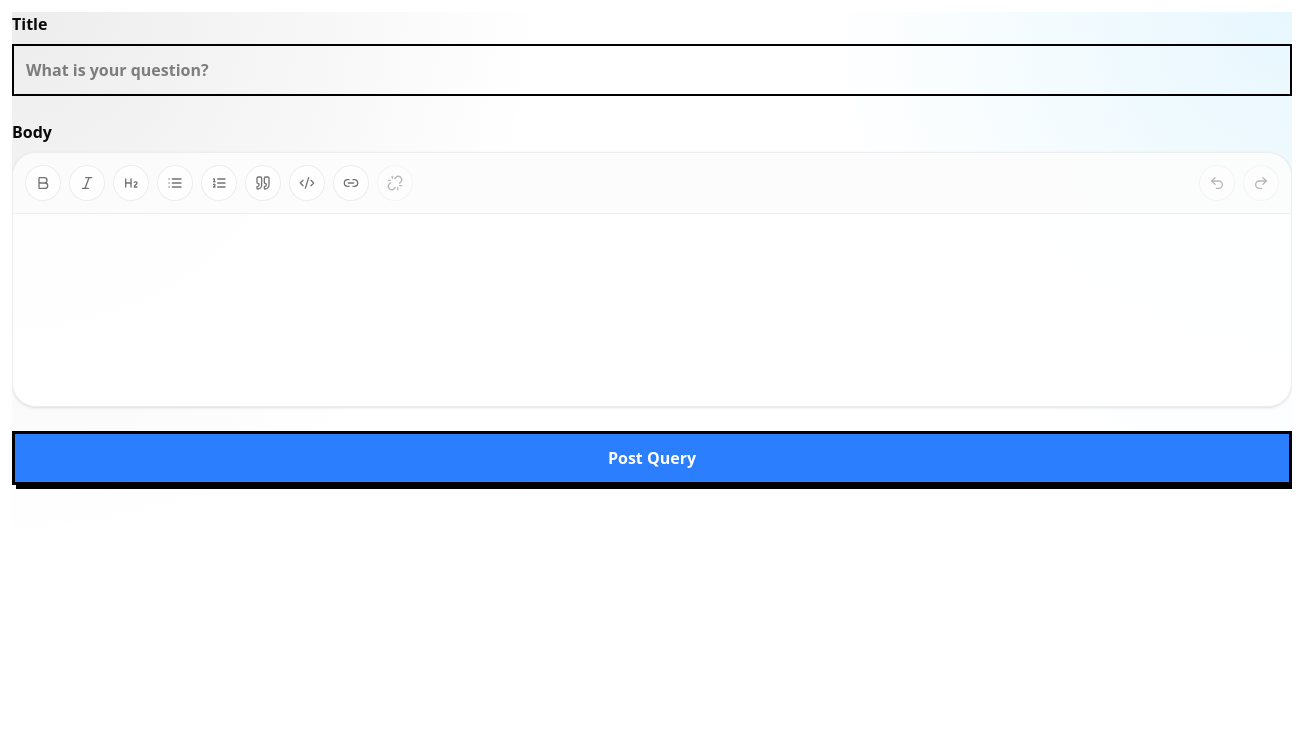
SubmitQueryForm › shows an error instead of submitting when title or body is missing
The image size is (1304, 732).
Type "Missing body" into the field with placeholder "What is your question?" at (652, 70), box [12, 44, 1292, 96]
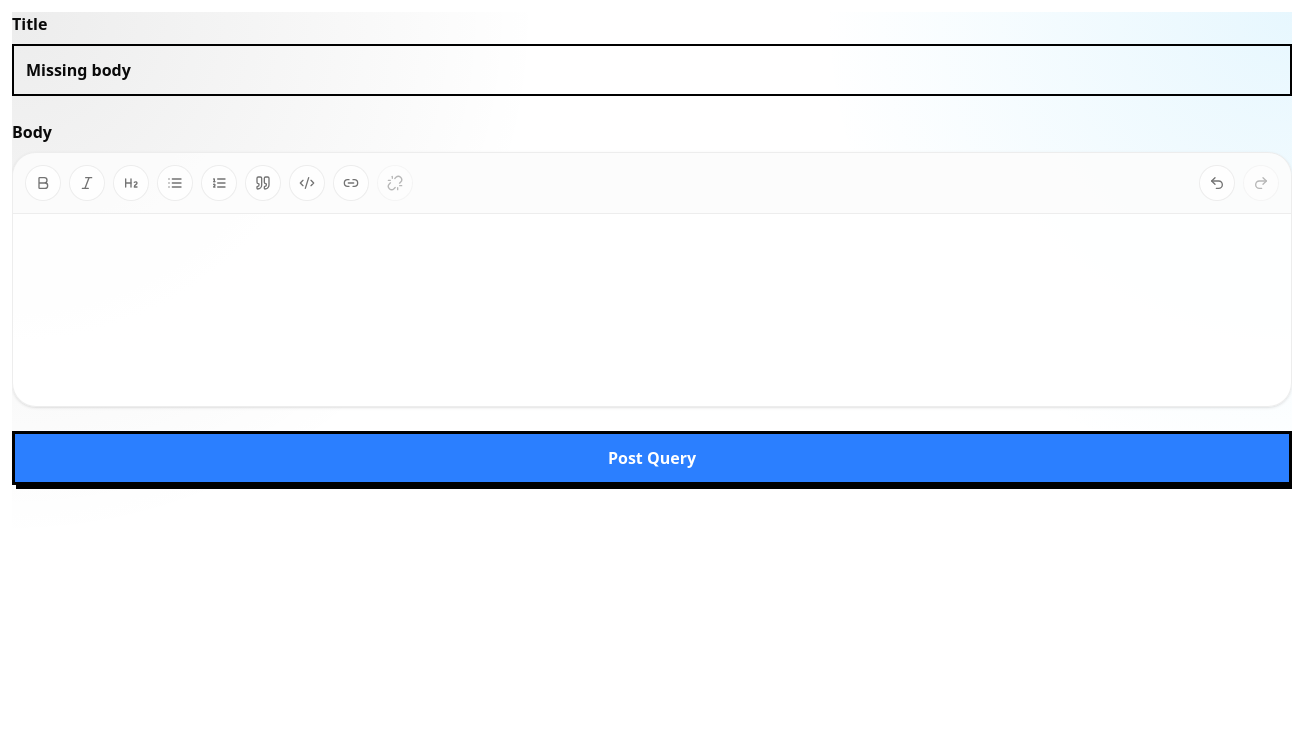
Click the button "Post Query" at (652, 458), box [12, 431, 1292, 485]
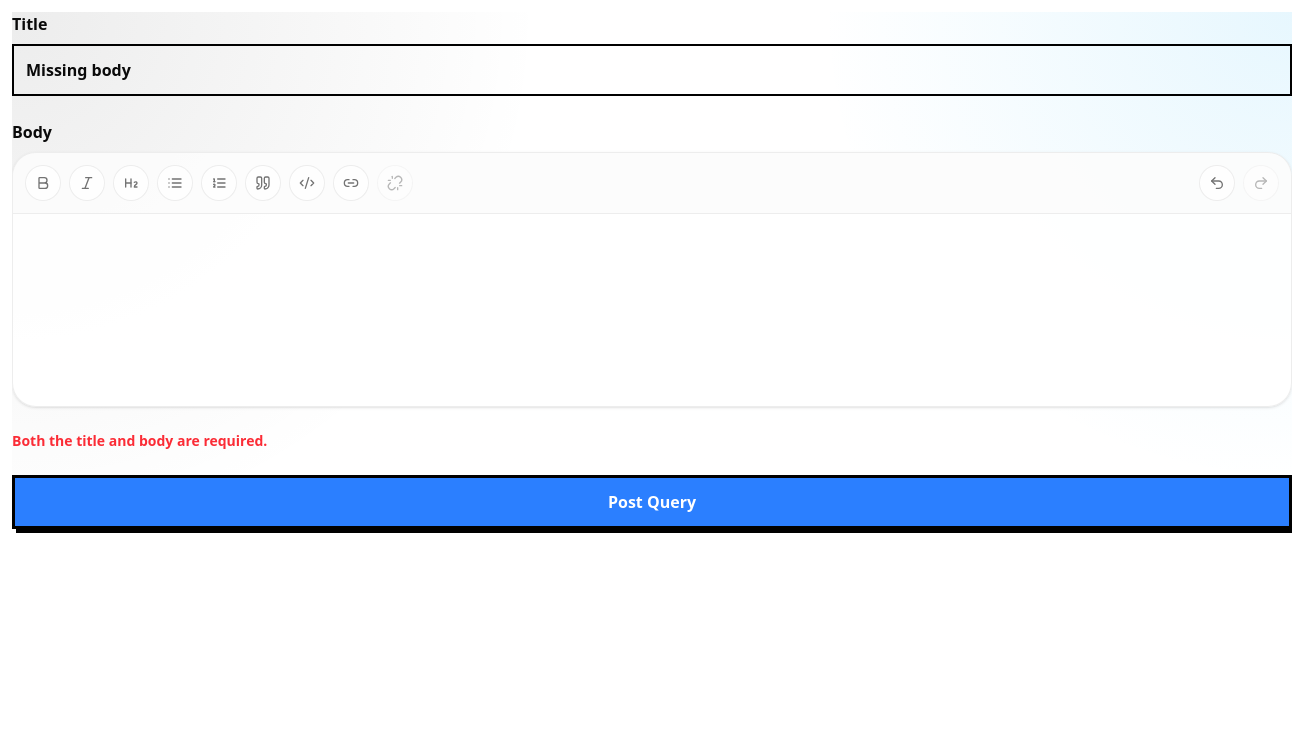
Now the text "Both the title and body are required." is shown, box [12, 431, 267, 450]
